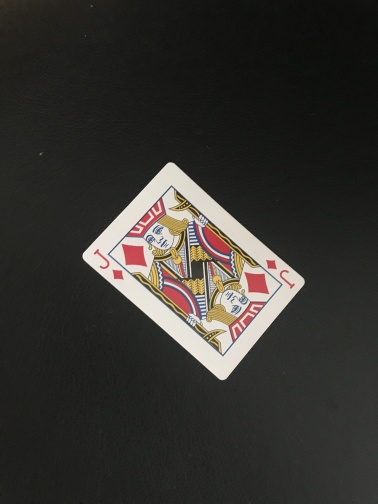jack: (80, 161, 307, 383)
